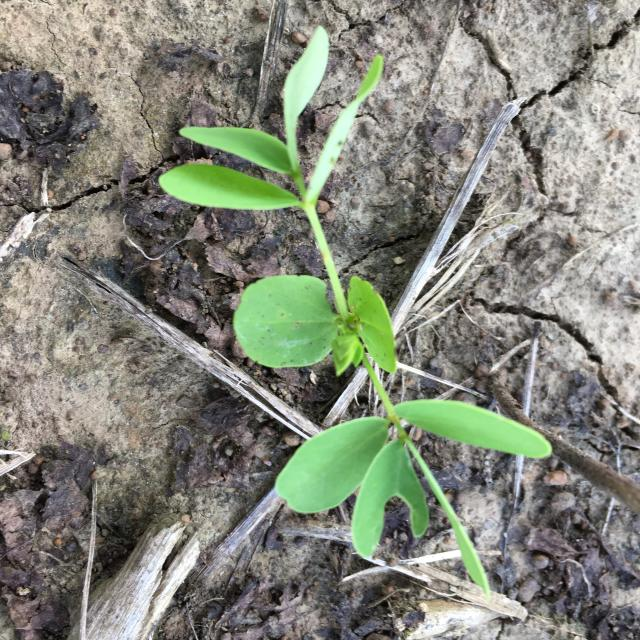Sicklepod: (159, 26, 553, 602)
